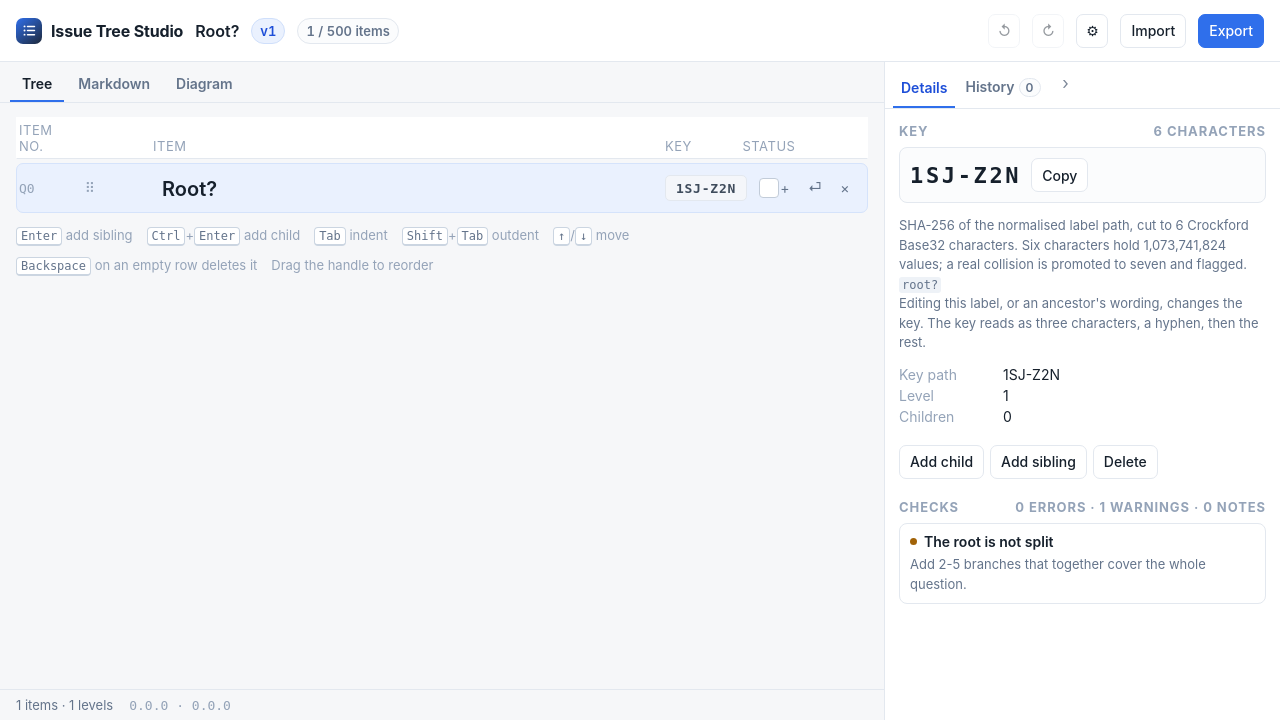
workspace shell › keeps a display toggle after the dialog is closed and reopened
expect the number of list items is 1: met, box [16,163,868,213]
Click the button named "Settings" at [1092, 30], box [1076,14,1108,48]
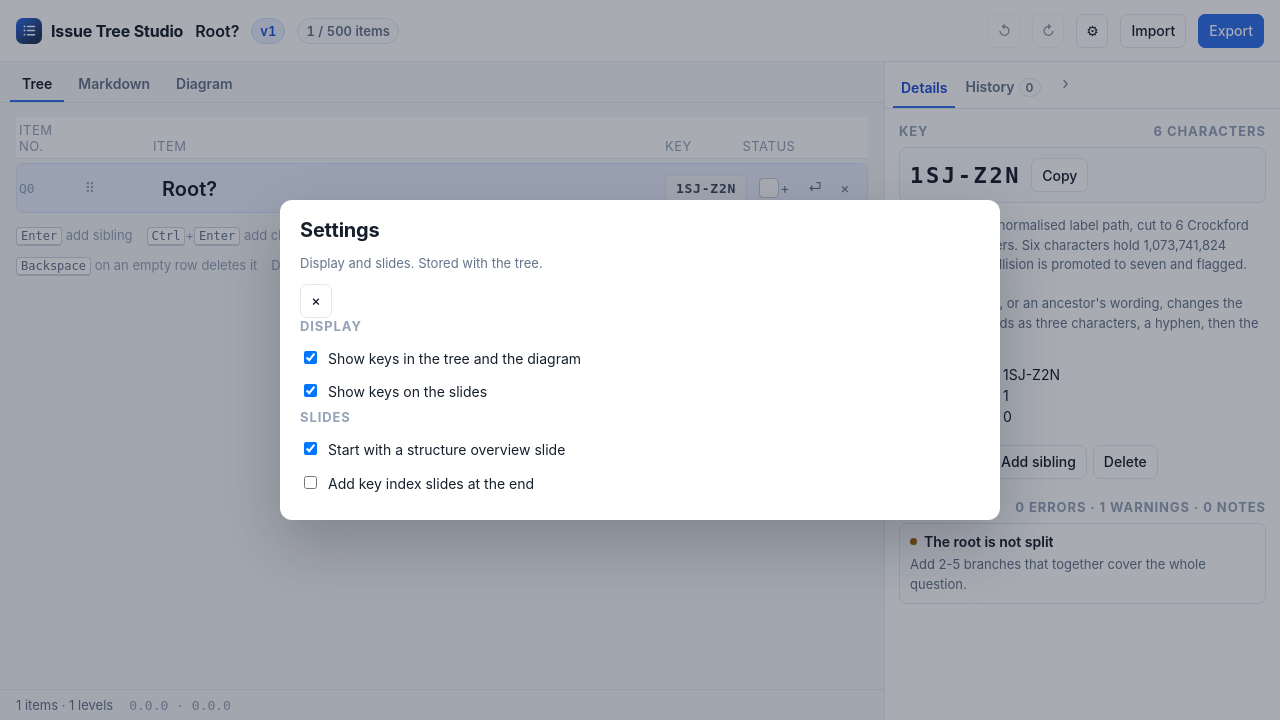
expect the checkbox labelled "Show keys in the tree and the diagram" is checked: met
Click the checkbox labelled "Show keys in the tree and the diagram" at [310, 357], box [304,351,317,364]
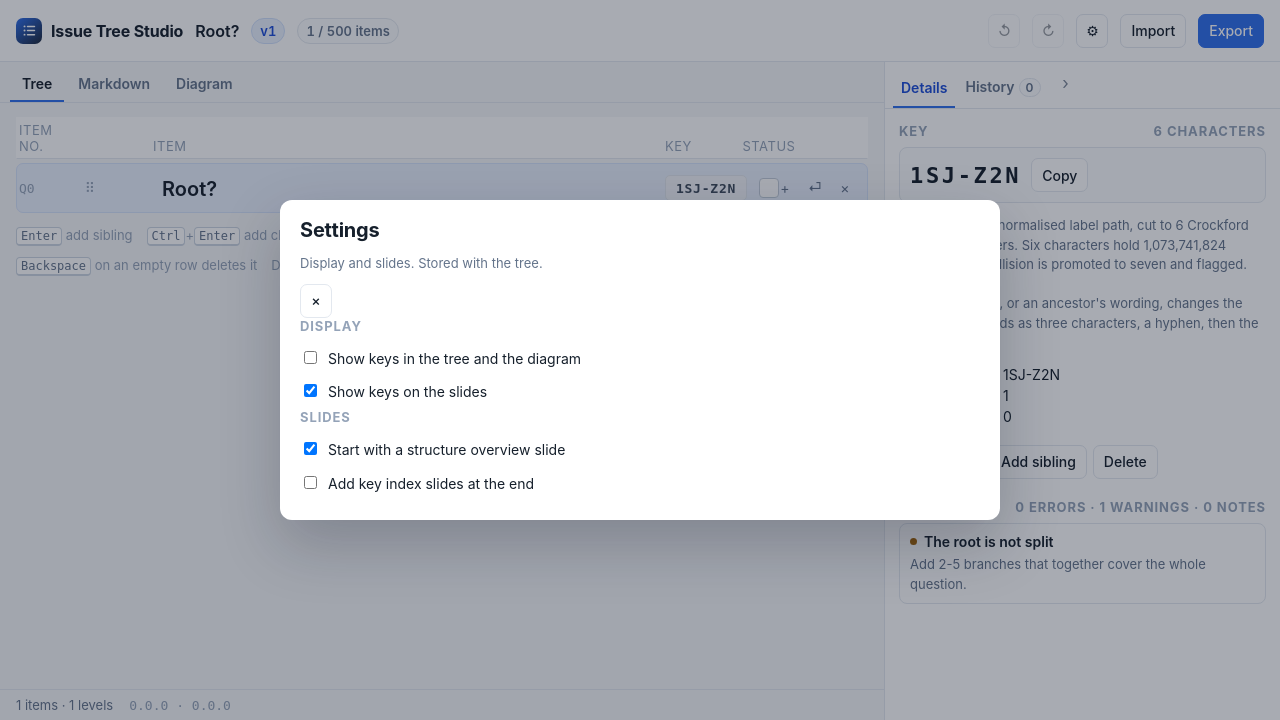
expect the checkbox labelled "Show keys in the tree and the diagram" is not checked: met, box [304,351,317,364]
Click the button named "Close settings" at [316, 301], box [300,284,332,318]
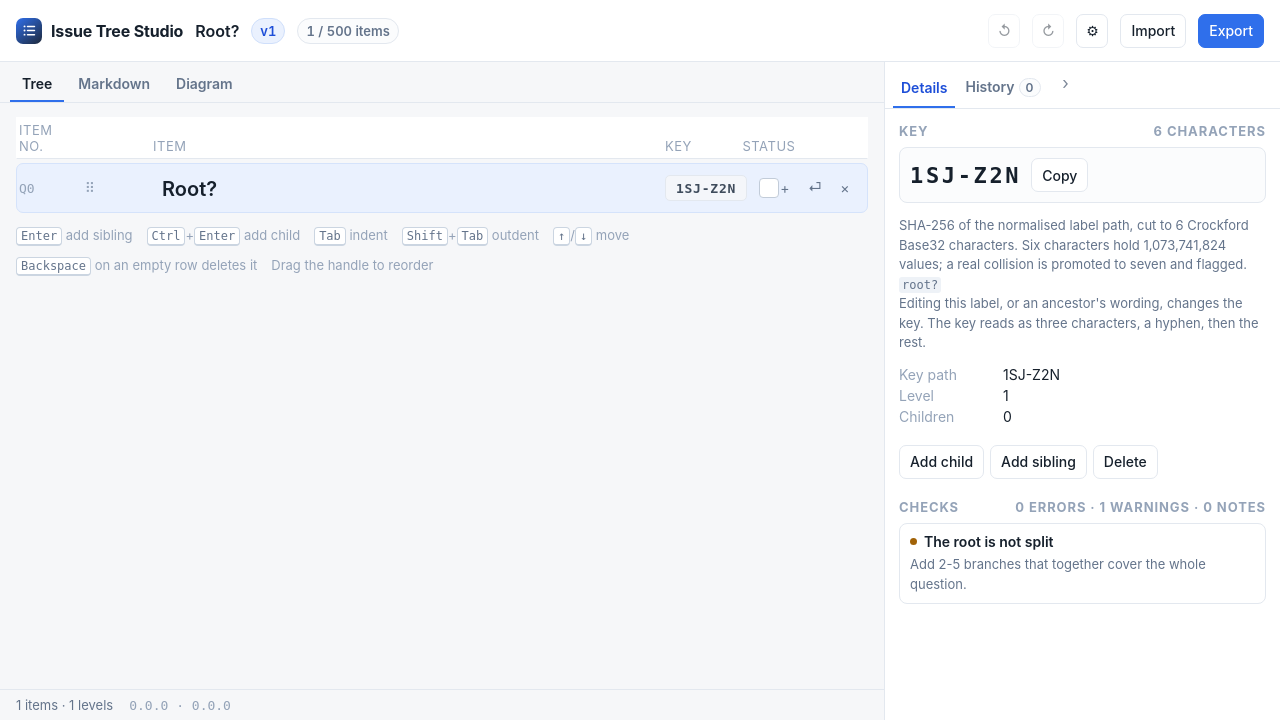
Click the button named "Settings" at [1092, 30], box [1076,14,1108,48]
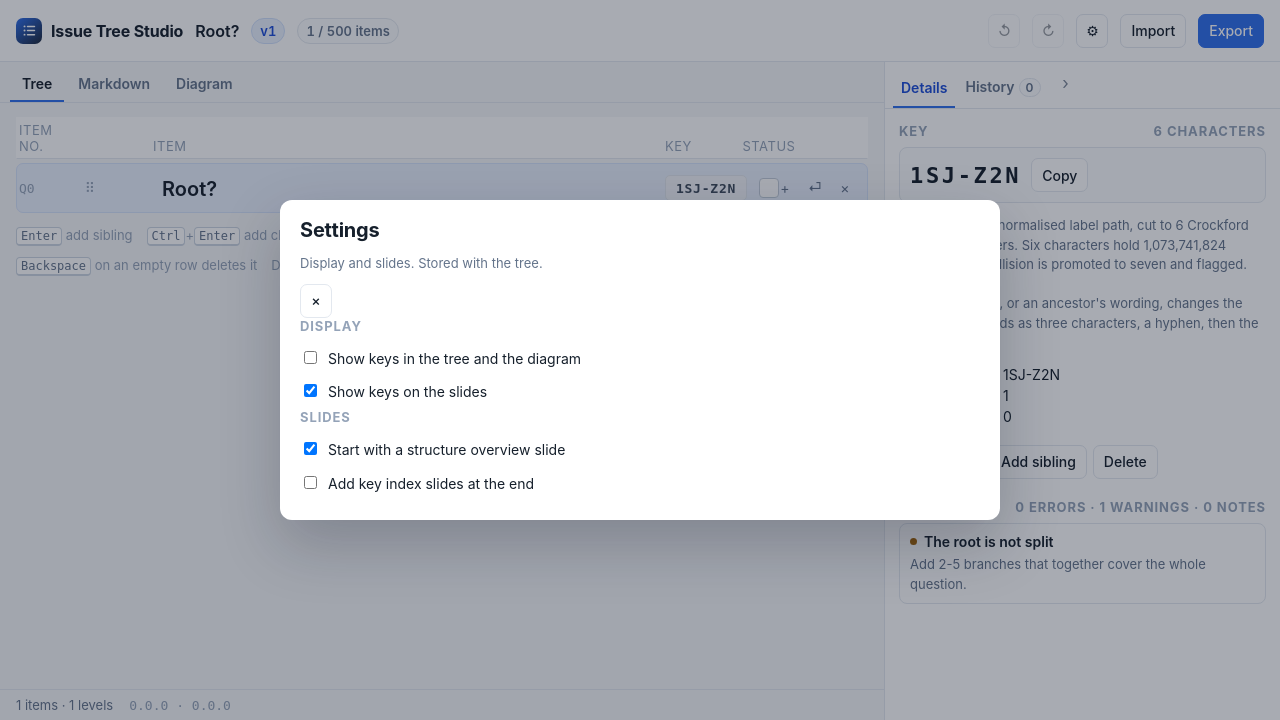
expect the checkbox labelled "Show keys in the tree and the diagram" is not checked: met, box [304,351,317,364]
